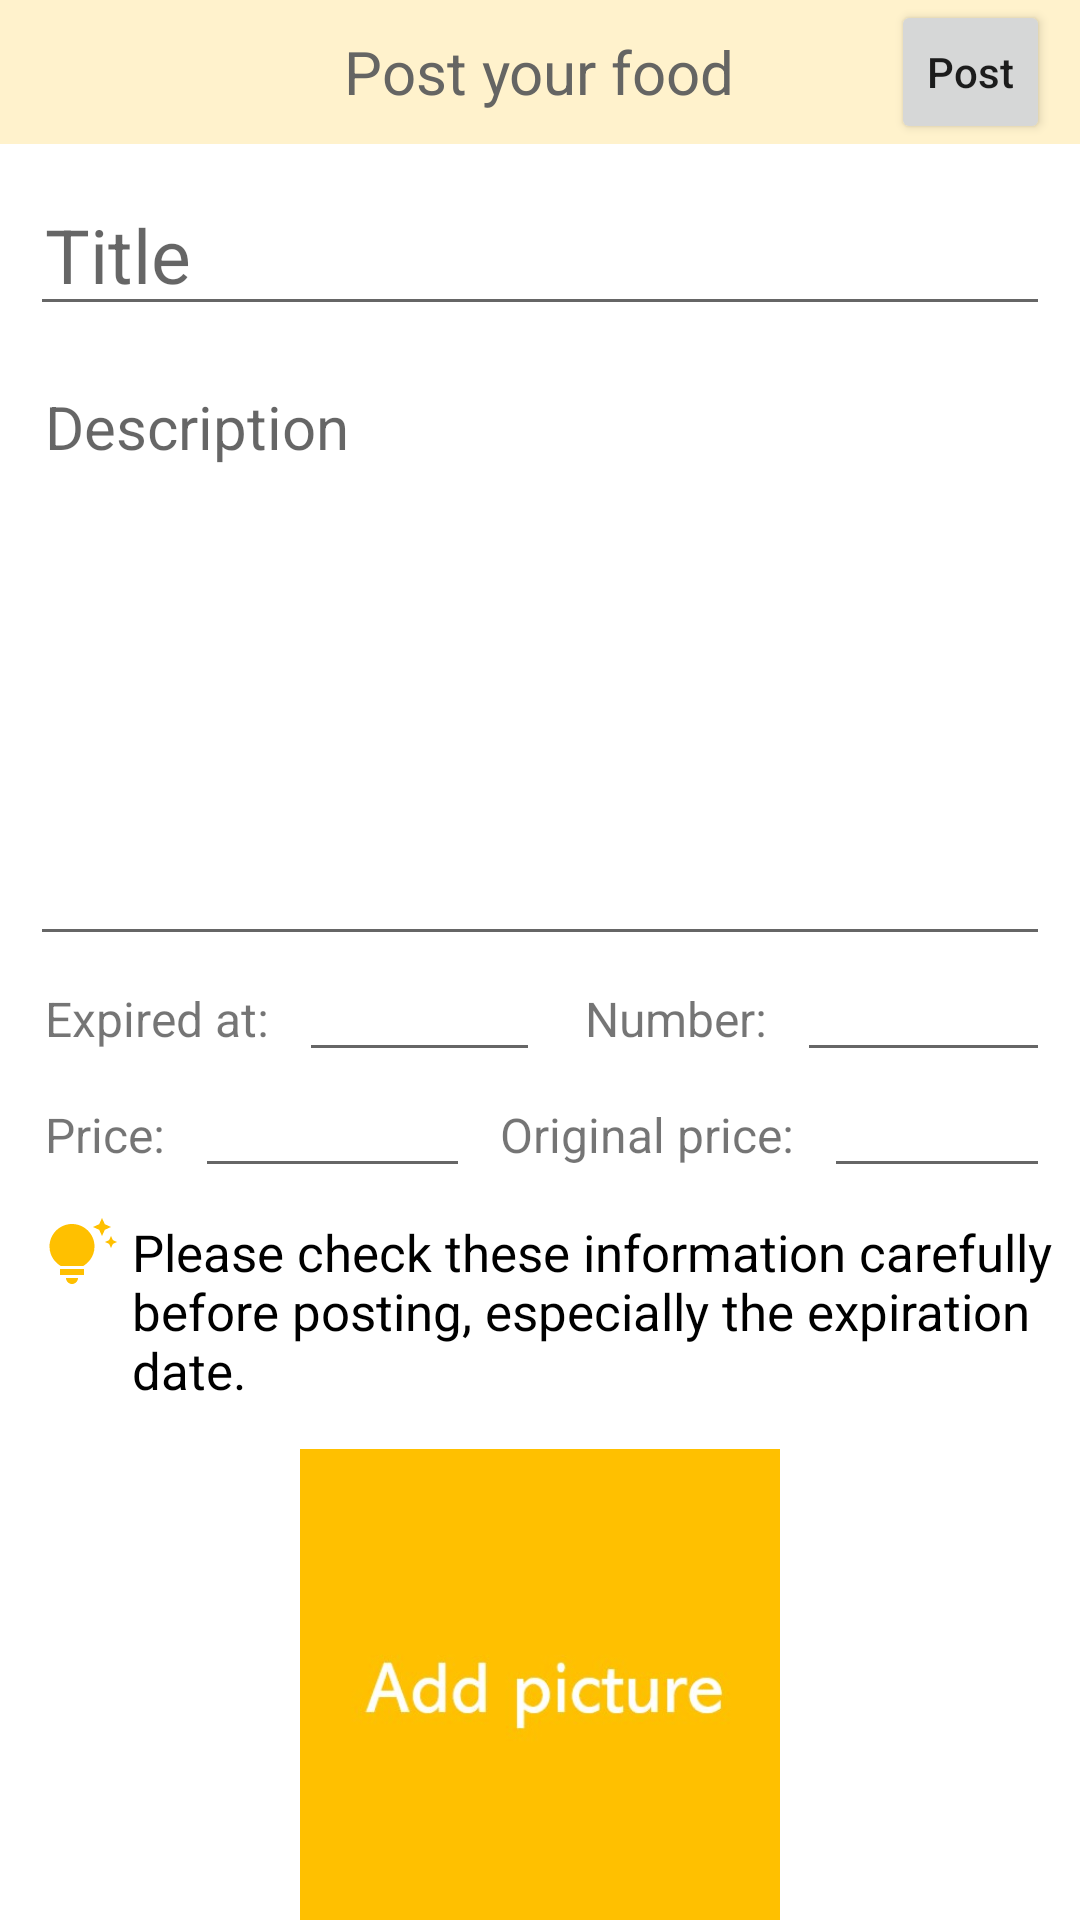

Icons on this 1080×1920 Android screen, each with its box as region(x1, y1, x2, y2):
tips: region(49, 1218, 117, 1284)
